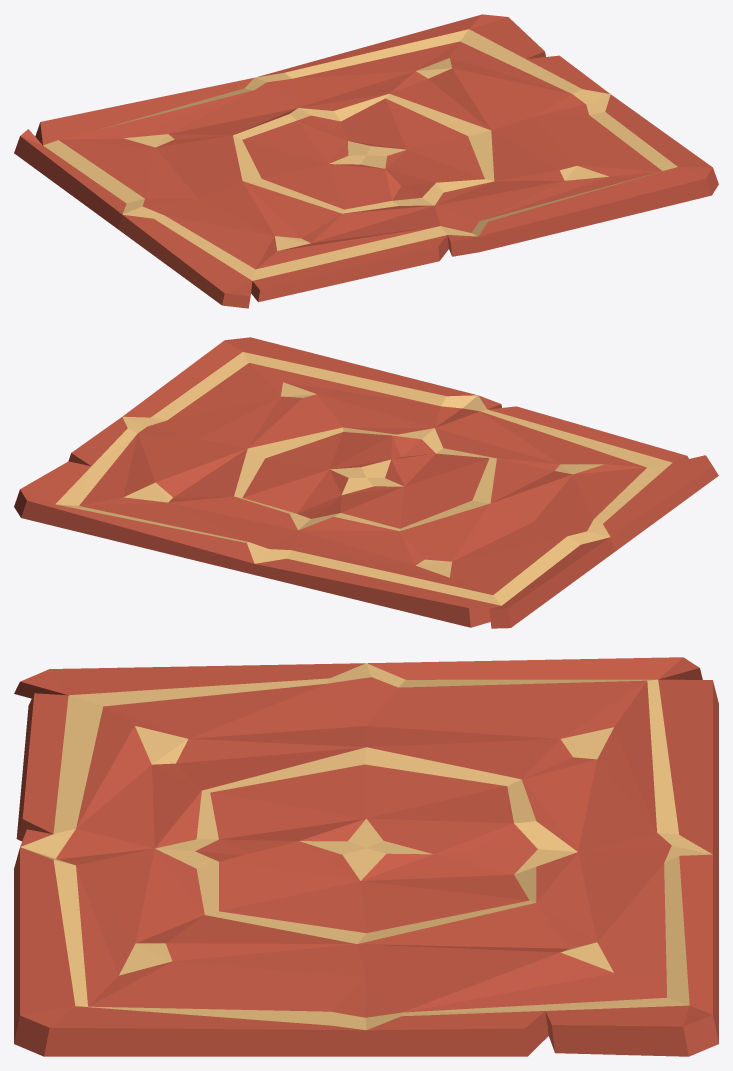
Rendered from SquareRug_Red.fbx.
The picture shows the model from 3 angles, top to bottom: view 1: azimuth 30°, elevation 25°; view 2: azimuth 150°, elevation 25°; view 3: azimuth 270°, elevation 25°; orthographic projection. The views are drawn at different scales.
Visible parts, largest first — view 1: SquareRug_Red; view 2: SquareRug_Red; view 3: SquareRug_Red.
Boxes of the visible parts, left/top/right/bottom form: SquareRug_Red: left=14, top=14, right=718, bottom=308; SquareRug_Red: left=14, top=337, right=718, bottom=628; SquareRug_Red: left=14, top=657, right=718, bottom=1056.
Bounding box in the file's own units: 10.8 × 0.4311 × 8.57.
